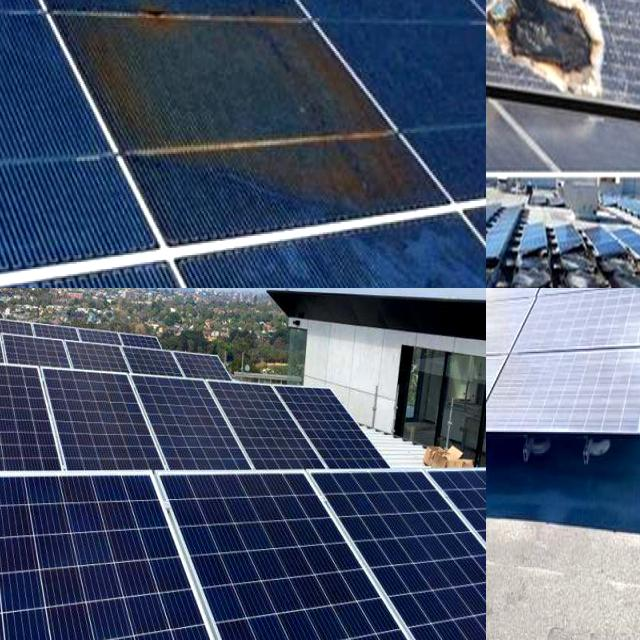crack: (0, 480, 241, 640), (170, 492, 395, 640), (306, 460, 486, 640), (35, 366, 175, 490), (195, 370, 336, 490), (268, 369, 400, 494), (123, 364, 254, 483), (0, 356, 66, 486), (0, 319, 76, 384), (52, 335, 143, 384), (0, 317, 39, 379)
dust: (508, 356, 638, 428), (540, 296, 640, 339), (486, 363, 525, 419), (486, 308, 521, 353), (552, 288, 640, 304), (486, 388, 516, 414), (486, 288, 533, 301)
shadow: (54, 0, 402, 226), (486, 0, 632, 105), (486, 30, 535, 288), (595, 252, 640, 271)
